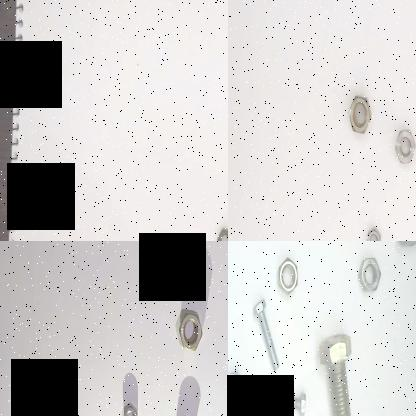Bolts: (315, 327, 359, 416), (247, 296, 283, 374), (258, 378, 309, 416)
NUTS: (356, 250, 382, 301), (346, 89, 372, 138), (275, 253, 300, 301), (228, 357, 248, 416), (179, 307, 203, 355), (394, 125, 416, 167), (365, 226, 383, 241), (121, 403, 140, 416), (216, 225, 228, 241)
